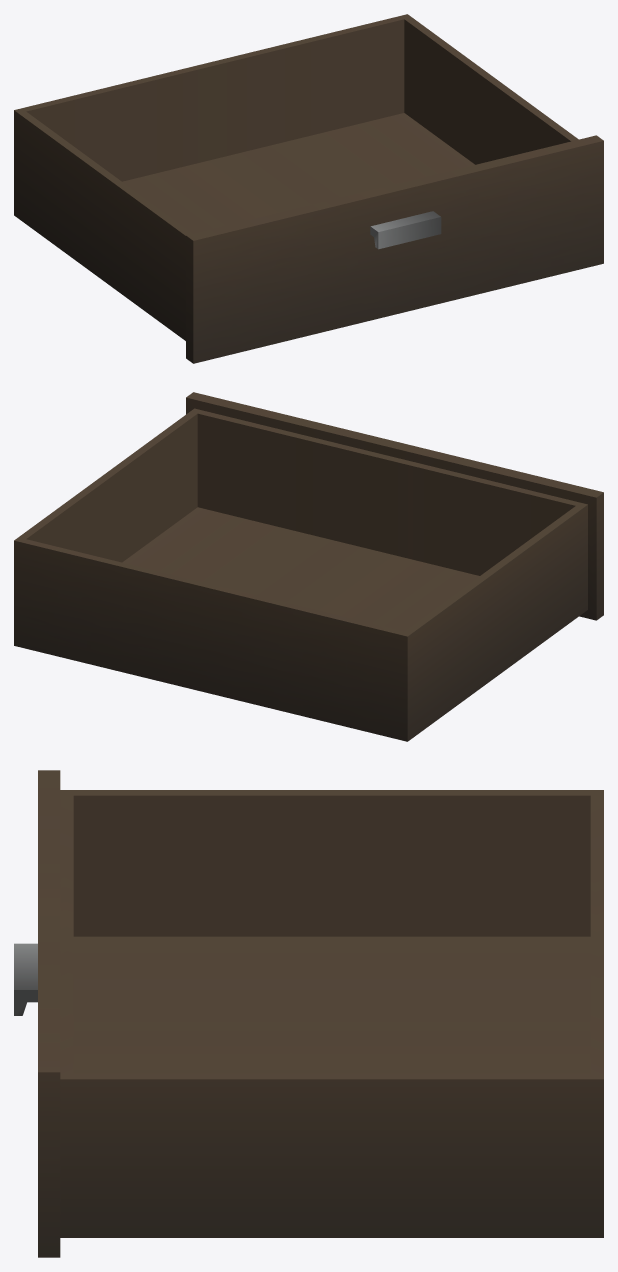
The model's file is Drawer_SideboardCabinet_Brown_medium.fbx.
3 renders of one model, top to bottom at view 1: azimuth 30°, elevation 25°; view 2: azimuth 150°, elevation 25°; view 3: azimuth 270°, elevation 25°, orthographic. The views are drawn at different scales.
Parts seen in each view (by area): view 1: Drawer_SideboardCabinet_Brown_medium; view 2: Drawer_SideboardCabinet_Brown_medium; view 3: Drawer_SideboardCabinet_Brown_medium.
Part boxes in pixels (x1=…): Drawer_SideboardCabinet_Brown_medium: x1=14, y1=14, x2=603, y2=363; Drawer_SideboardCabinet_Brown_medium: x1=14, y1=392, x2=603, y2=741; Drawer_SideboardCabinet_Brown_medium: x1=14, y1=770, x2=603, y2=1257.
Size of the model in its own units: 78.47 by 22.45 by 64.83.
